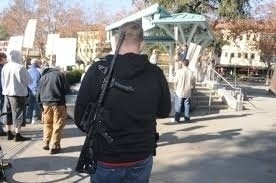pistol: (79, 31, 127, 173)
